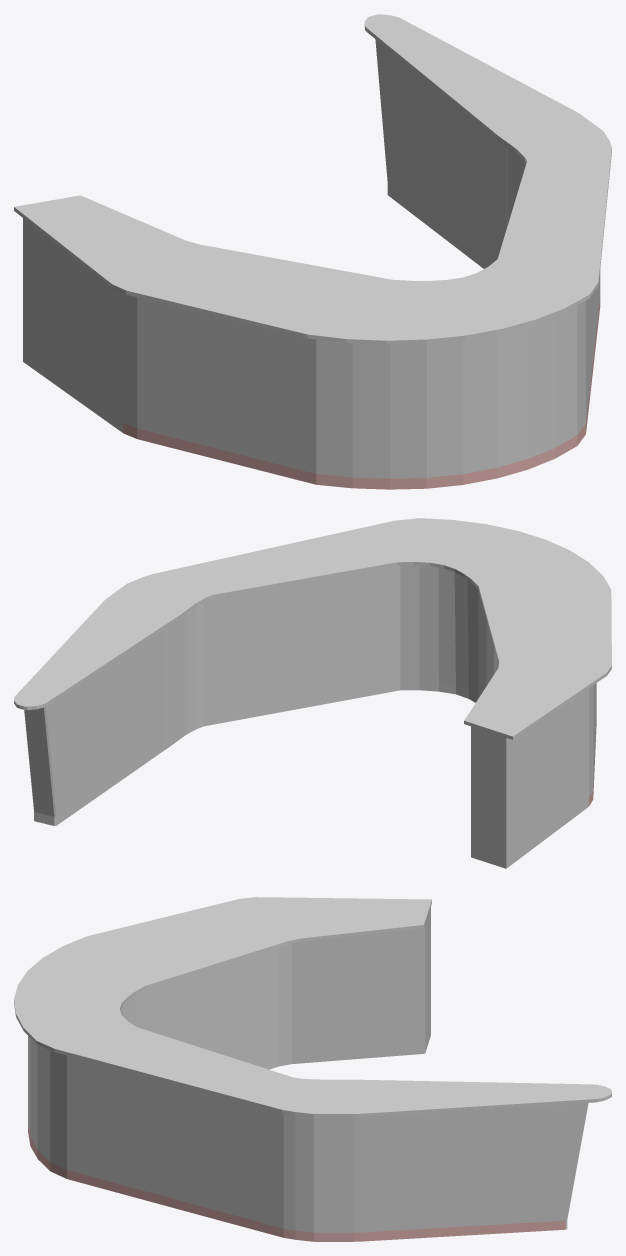
The model's file is flux_0_booth.fbx.
The picture shows the model from 3 angles, top to bottom: view 1: azimuth 30°, elevation 25°; view 2: azimuth 150°, elevation 25°; view 3: azimuth 270°, elevation 25°; orthographic projection. The views are drawn at different scales.
Visible parts, largest first — view 1: Cube; view 2: Cube; view 3: Cube.
Part boxes in pixels (bbox=[...]): Cube: bbox=[14, 14, 611, 489]; Cube: bbox=[14, 518, 611, 868]; Cube: bbox=[14, 897, 611, 1241].
Bounding box in the file's own units: 1004 × 286 × 1170.
